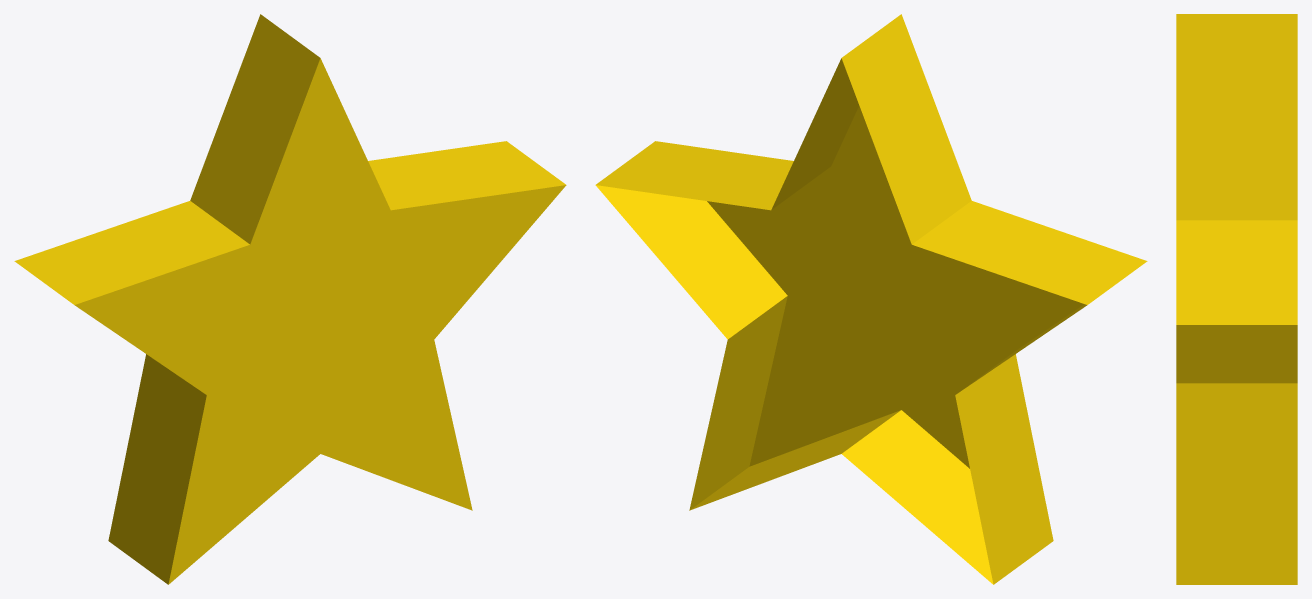
The model's file is Candy_Star-A.FBX.
3 views of the same model, side by side, from view 1: azimuth 30°, elevation 25°; view 2: azimuth 150°, elevation 25°; view 3: azimuth 270°, elevation 25° (orthographic).
Parts seen in each view (by area): view 1: Candy_Star-A; view 2: Candy_Star-A; view 3: Candy_Star-A.
Boxes of the visible parts, left/top/right/bottom form: Candy_Star-A: left=14, top=14, right=566, bottom=584; Candy_Star-A: left=595, top=14, right=1147, bottom=584; Candy_Star-A: left=1176, top=14, right=1297, bottom=584.
Size of the model in its own units: 1362 by 1295 by 288.
